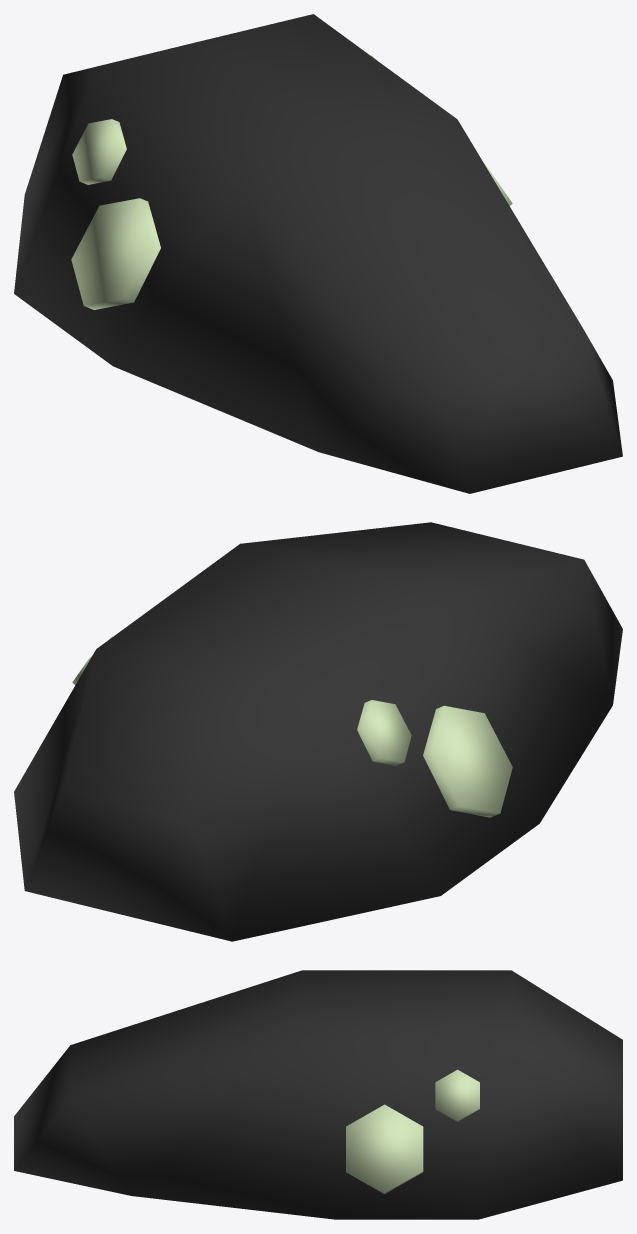
File: snakeHead.fbx
3 views of the same model, one above another, from view 1: azimuth 30°, elevation 25°; view 2: azimuth 150°, elevation 25°; view 3: azimuth 270°, elevation 25° (orthographic). The views are drawn at different scales.
Visible parts, largest first — view 1: Box001, Object001; view 2: Box001, Object001; view 3: Box001, Object001.
Part boxes in pixels (x1,y1,x2,y2): Box001: [14, 14, 622, 493]; Object001: [71, 55, 512, 309]; Box001: [14, 522, 622, 941]; Object001: [72, 636, 512, 817]; Box001: [14, 970, 622, 1219]; Object001: [346, 1069, 479, 1193].
Bounding box in the file's own units: 0.4548 × 0.1881 × 0.7712.
